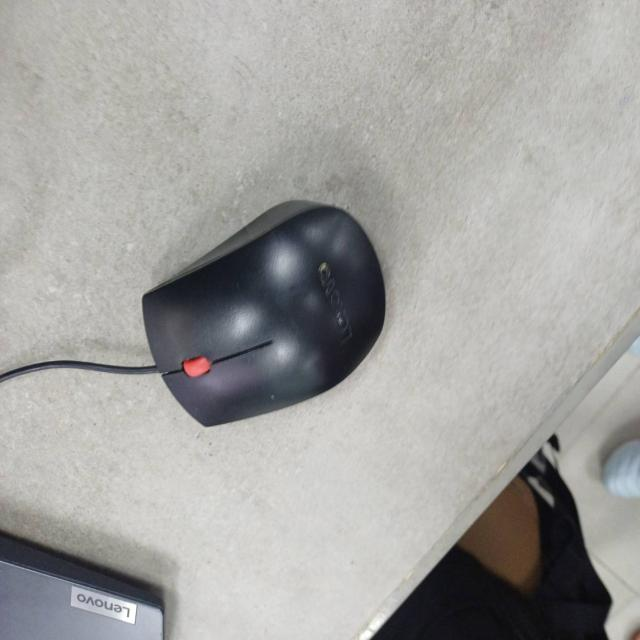mouse: (136, 185, 398, 453)
